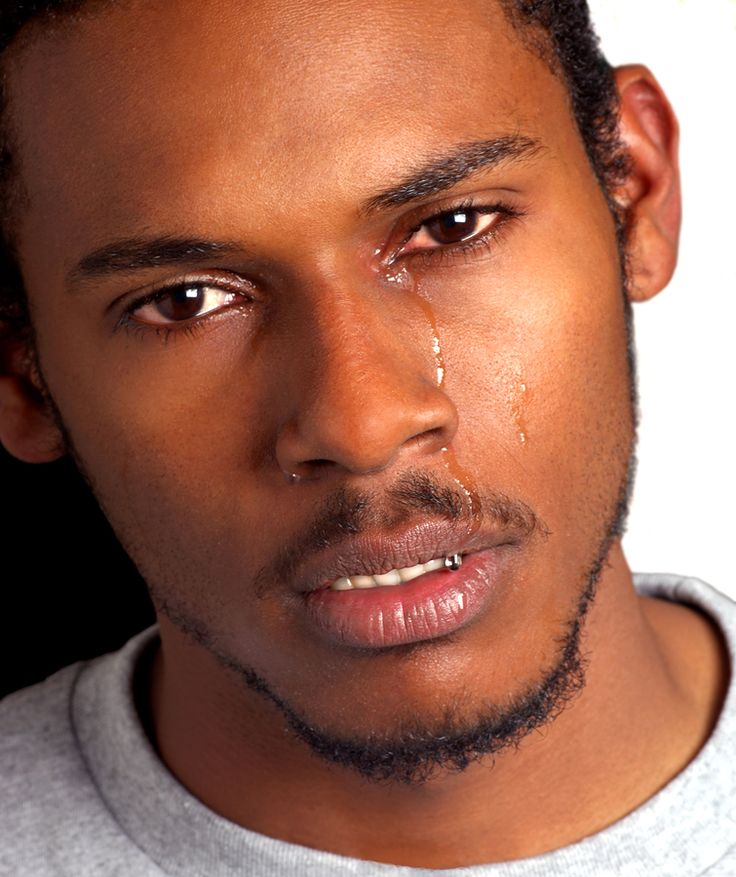sad: (1, 1, 642, 758)
